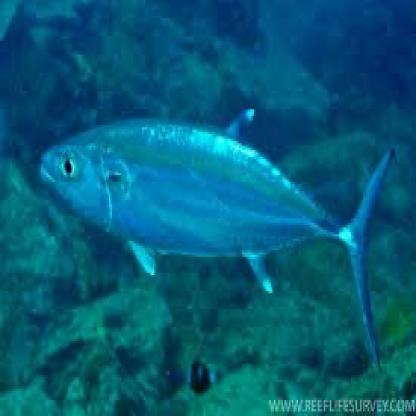Scombridae -Tunas-: (31, 97, 399, 381)
